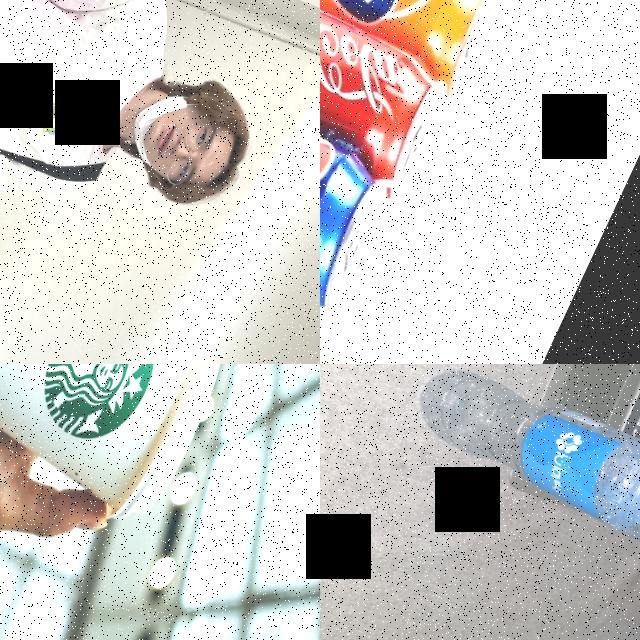bottle: (394, 364, 640, 589)
can: (320, 0, 463, 206), (320, 47, 409, 338), (320, 0, 519, 106)
cup: (0, 364, 246, 539)
